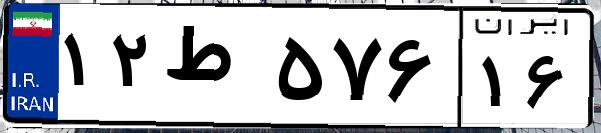1: (57, 26, 110, 100), (475, 38, 525, 113)
2: (110, 28, 158, 98)
5: (270, 28, 330, 110)
6: (385, 28, 445, 110), (525, 38, 570, 115)
7: (330, 28, 385, 110)
ط: (158, 20, 270, 120)
